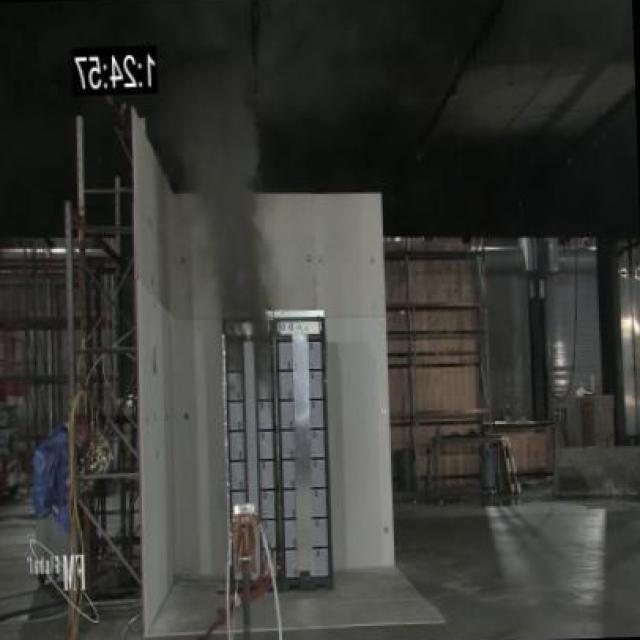fire: (163, 78, 272, 315)
